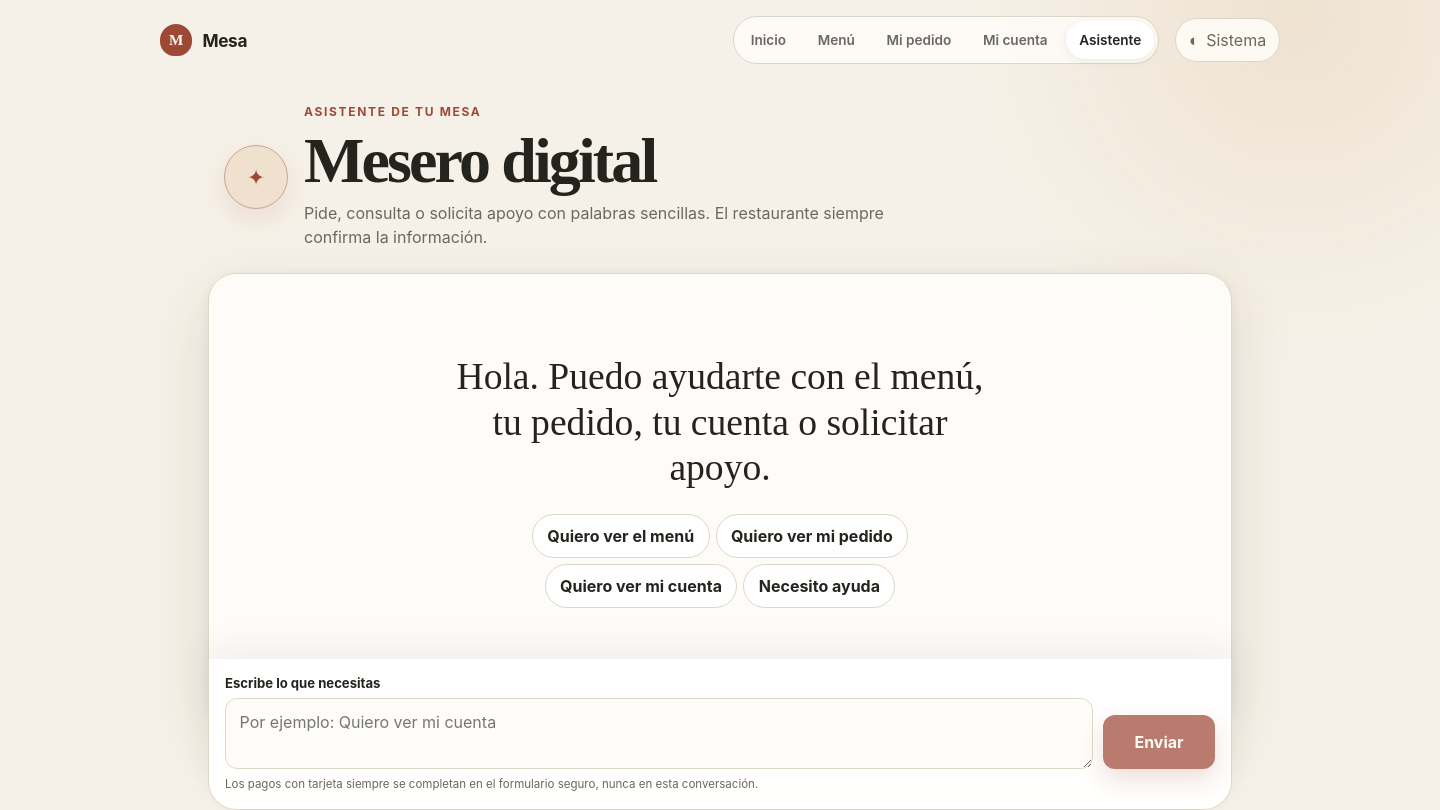
Test: Digital Waiter UI › turns an authoritative SESSION_CLOSED response into the existing terminal experience
Expected: the heading "Mesero digital" is shown, 304,125 -> 655,196
Click the button "Necesito ayuda": (819, 586) 743,564 -> 895,608
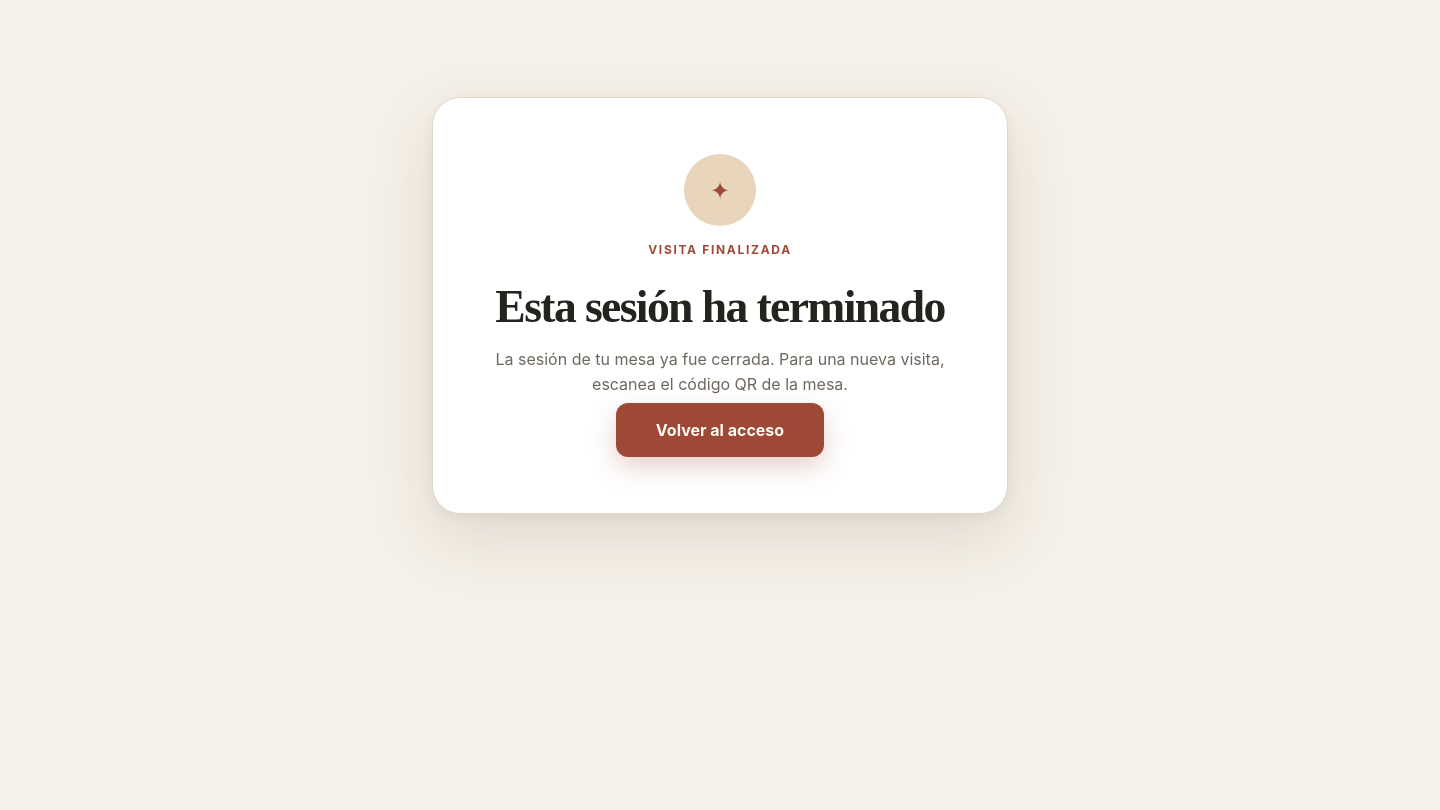
Expected: the heading "Esta sesión ha terminado" is shown, 495,283 -> 945,331
Expected: the label labelled "Escribe lo que necesitas" is gone
